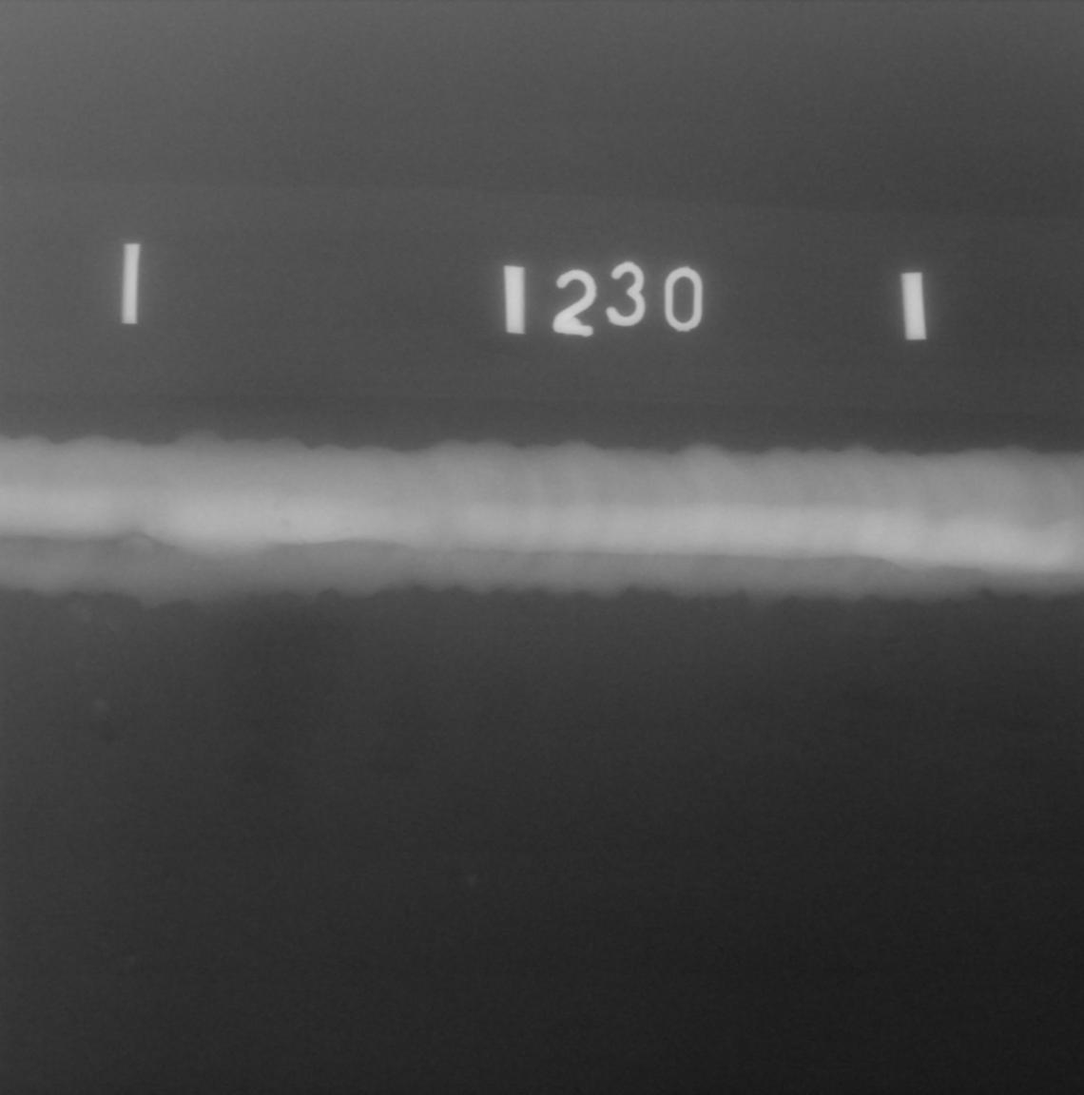Pore/Porosity: (273, 503, 281, 513), (282, 520, 291, 528)
